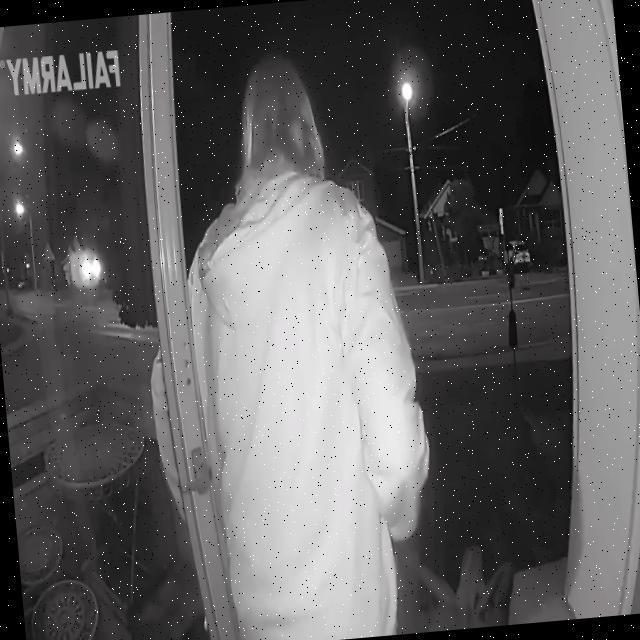person: (126, 42, 439, 640)
